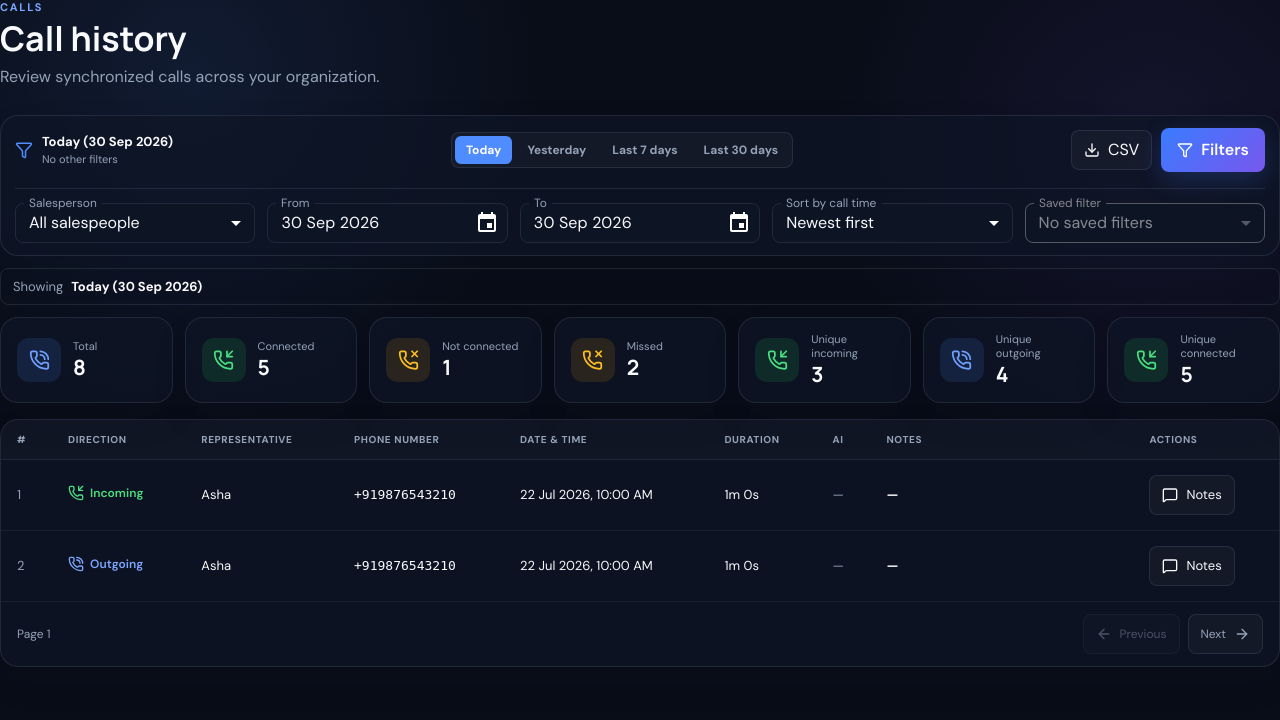
CallHistory › uses a keyboard-accessible modal overlay on mobile
Check: the heading "Call history" is shown, box x1=0 y1=15 x2=187 y2=61
Click the button "Filters": {"x": 1213, "y": 150} x1=1161 y1=128 x2=1265 y2=172
(page scrolled)
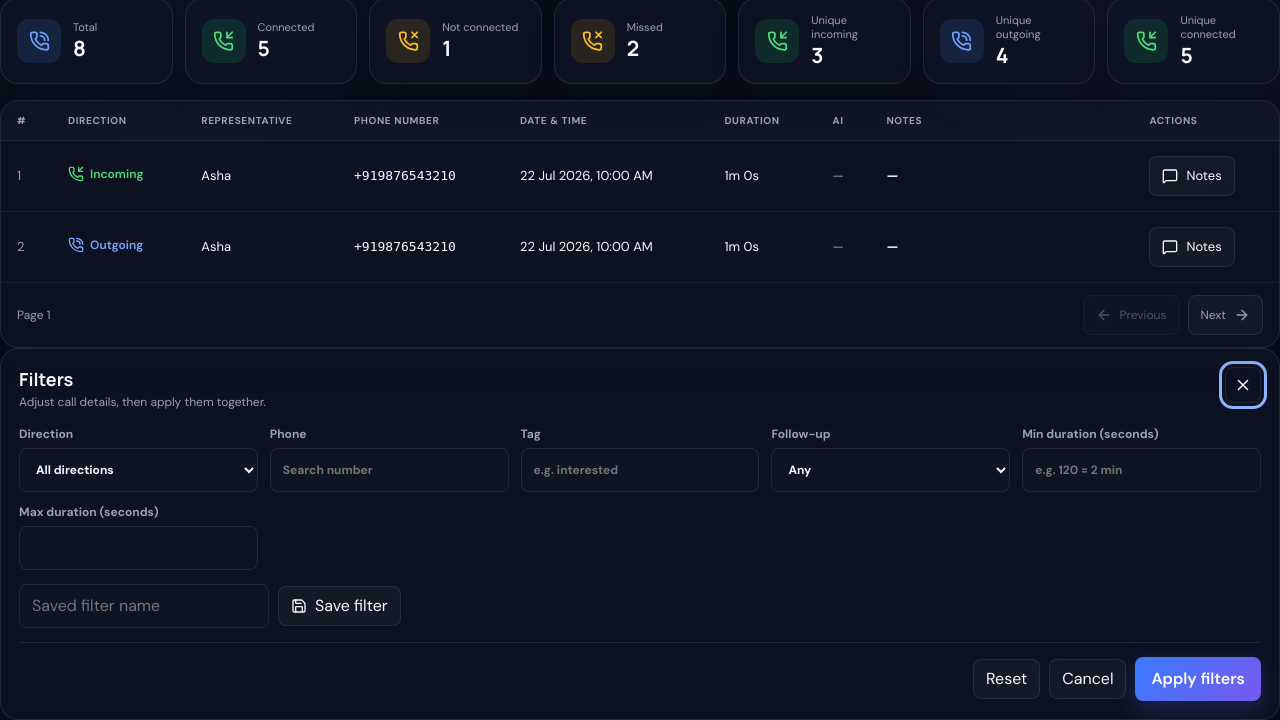
Check: the dialog "Filters" is shown, box x1=0 y1=348 x2=1279 y2=719
Press Escape
(page scrolled)
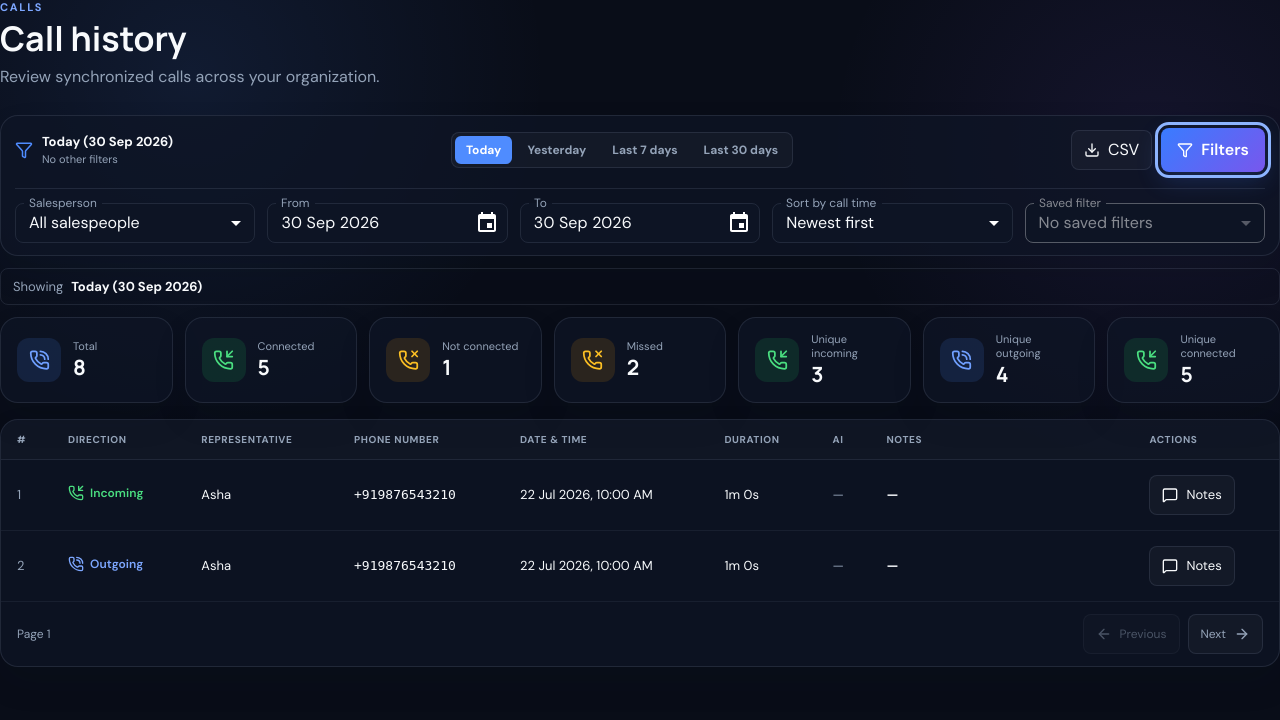
Check: the dialog is gone
